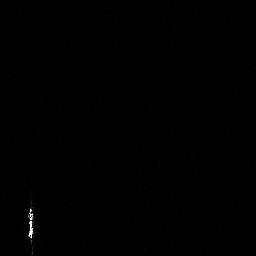ship: (21, 204, 40, 241)
